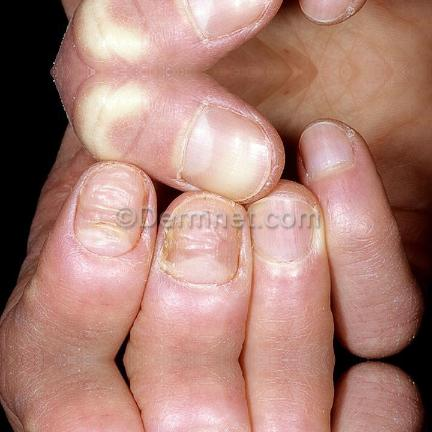Nail: (182, 104, 272, 202), (159, 195, 244, 286), (74, 165, 148, 258), (248, 197, 314, 263), (188, 0, 270, 40), (298, 122, 354, 178), (299, 0, 351, 22)
